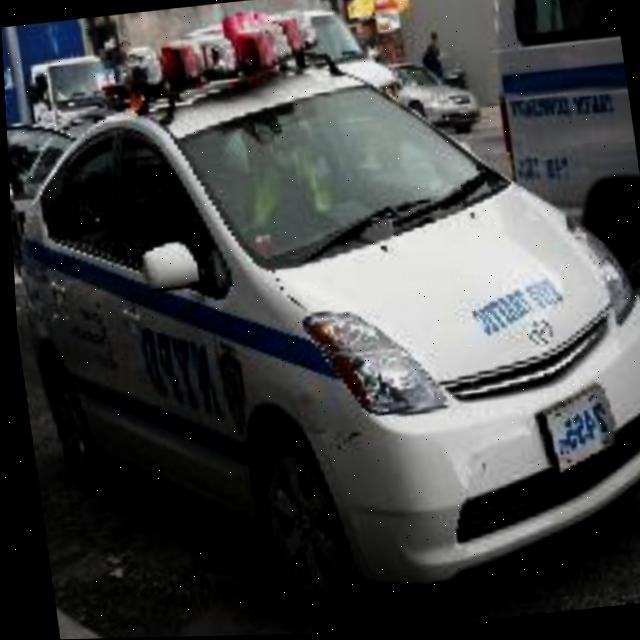emergency: (1, 16, 640, 593)
